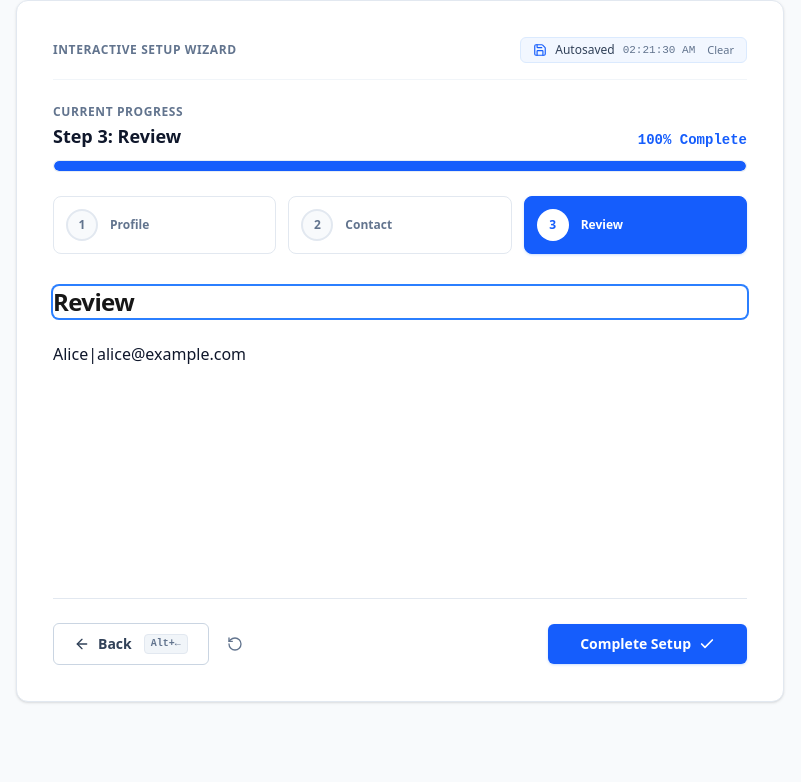
it: MultiStepLayout › retains the draft and presents an error if submission fails
Step 1. Click the button "Complete Setup" → (648, 644), box [548,624,747,664]
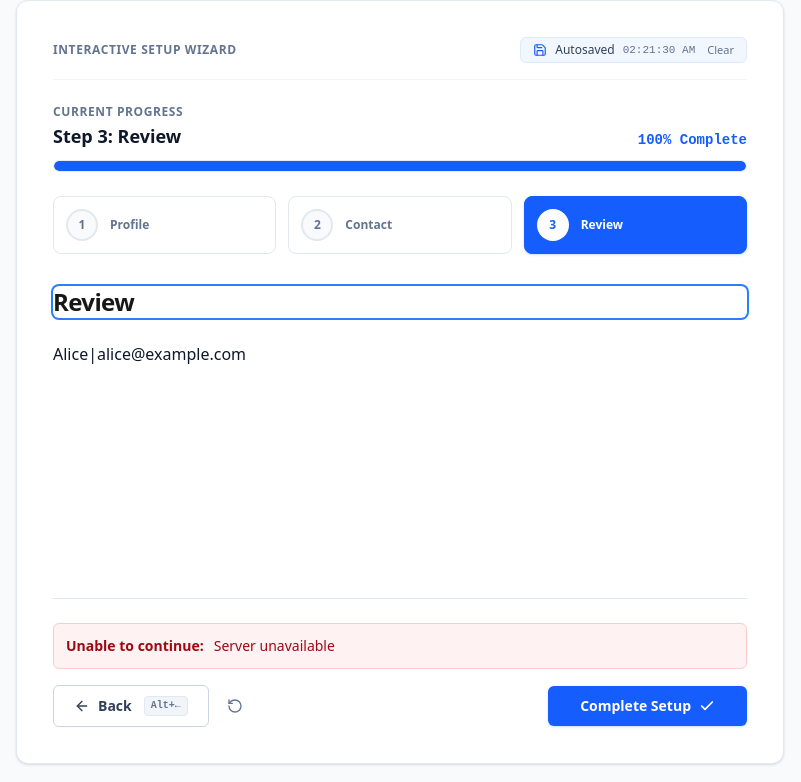
Now the message shows "Server unavailable", box [214,636,335,655]
